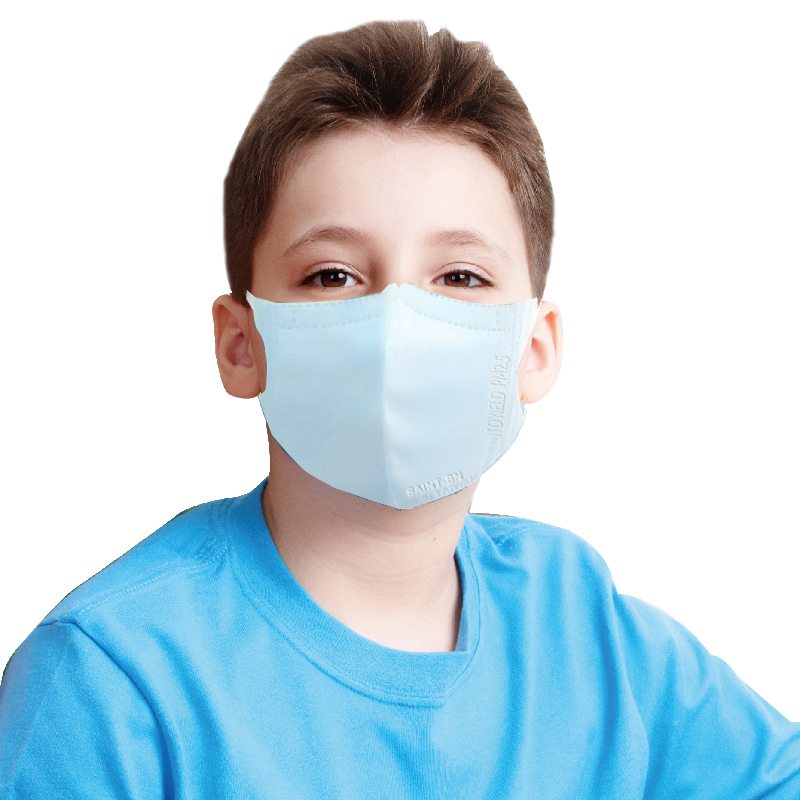face_mask: (260, 122, 528, 504)
